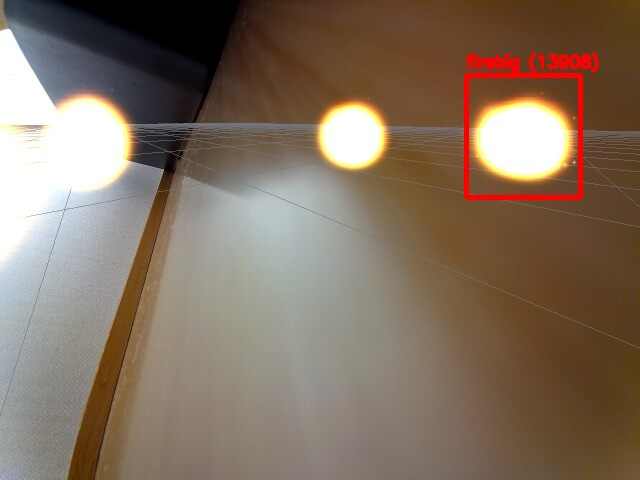firebig: (466, 75, 580, 197)
